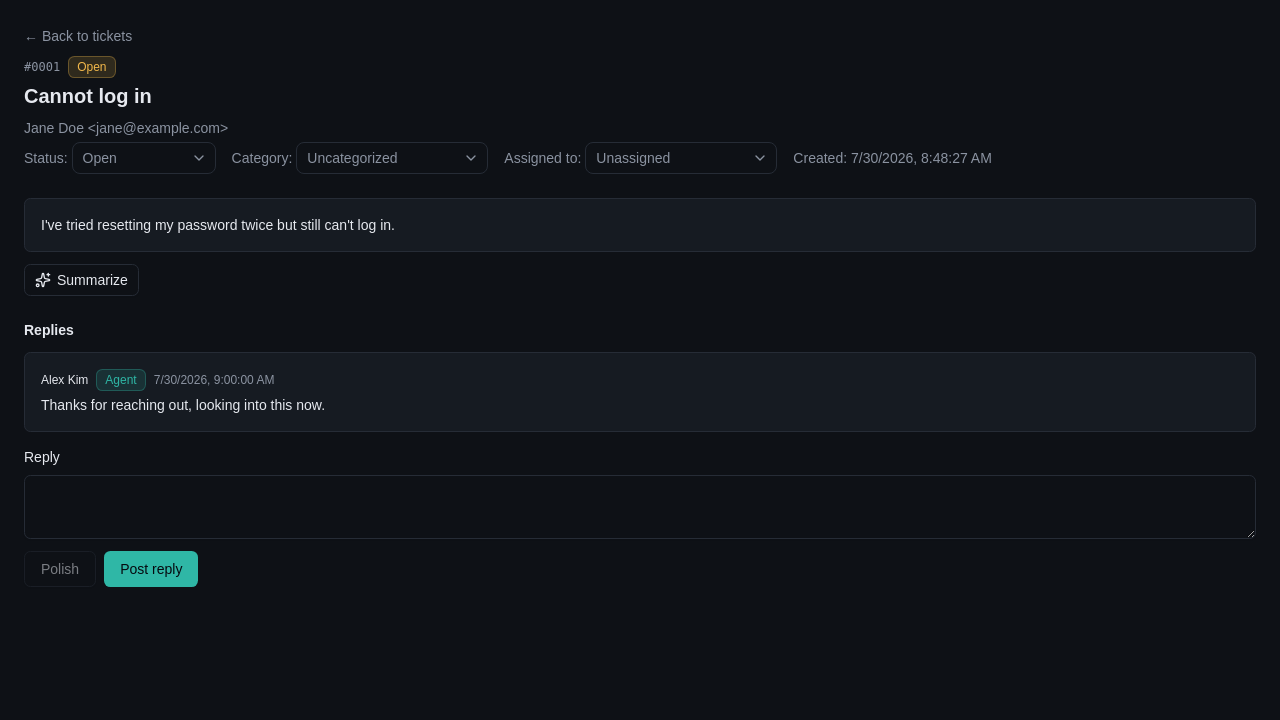
Test: TicketDetail › as an admin › renders an inline error when the assignment mutation fails
Expected: the heading "Cannot log in" is shown, [24,85,152,107]
Click the dropdown named "Assigned to" at (681, 158), box [585,142,777,174]
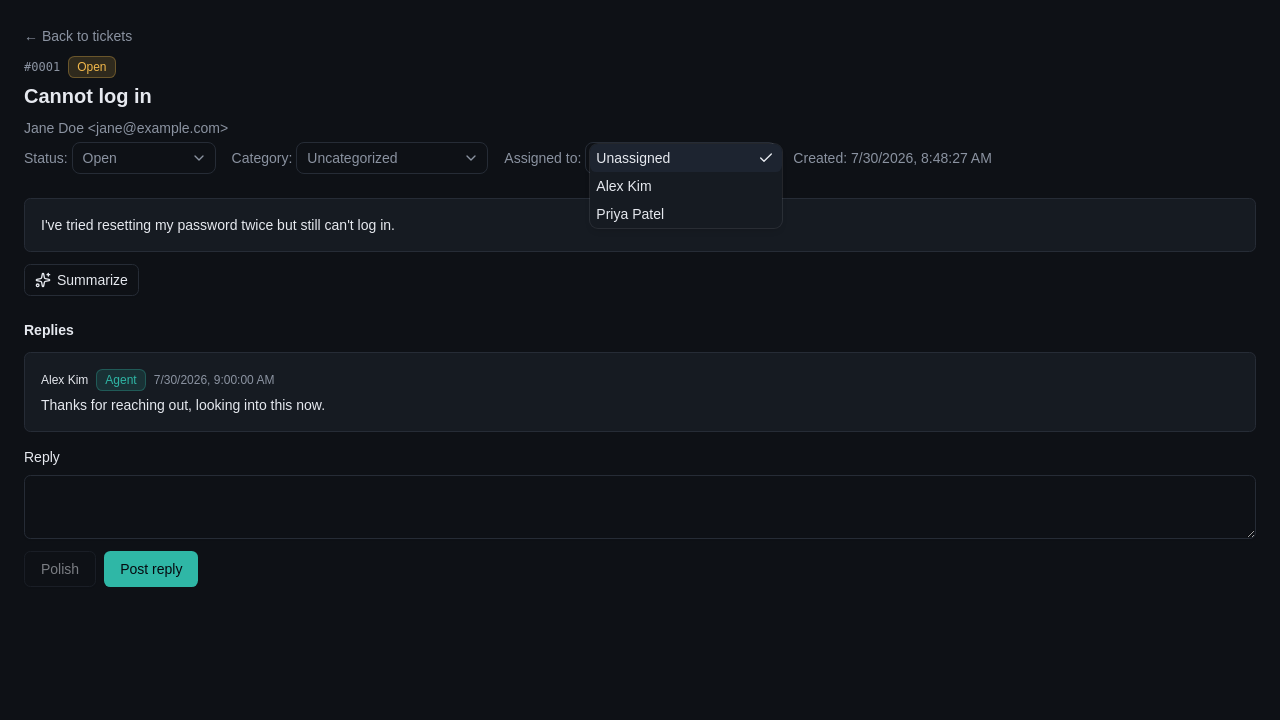
Click the option "Alex Kim" at (624, 186), box [596,178,652,194]
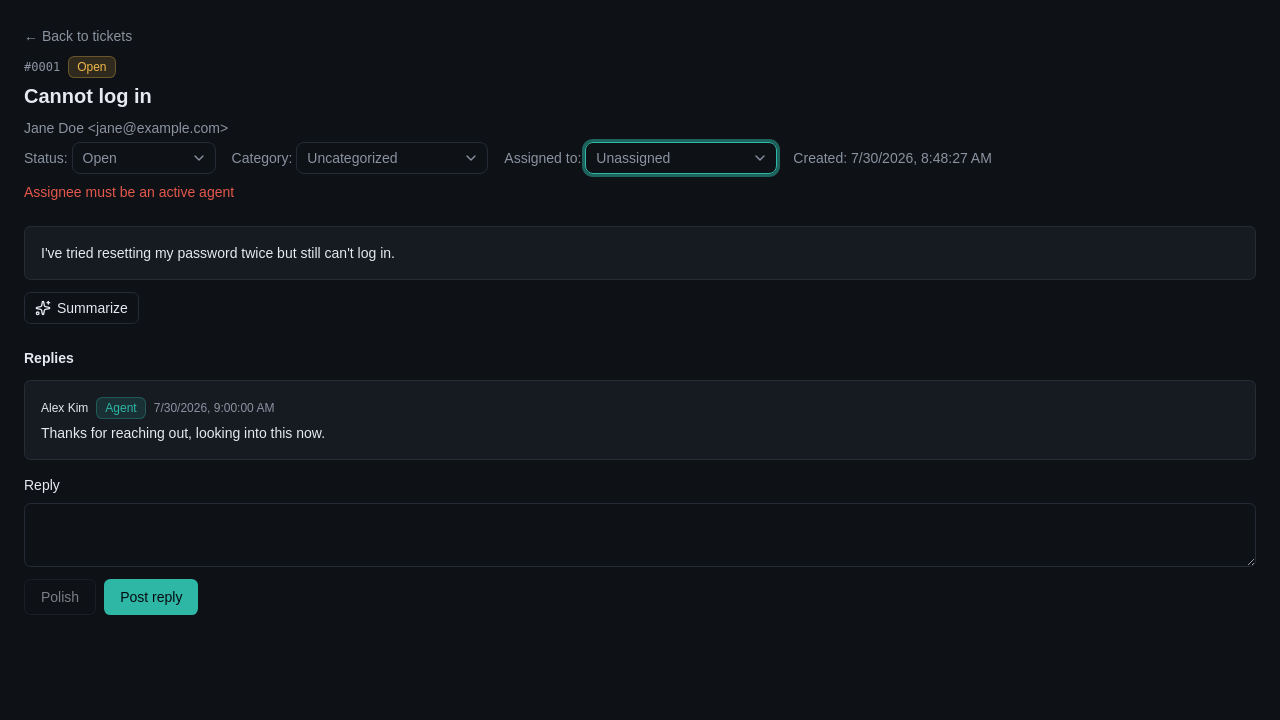
Expected: the text "Assignee must be an active agent" is shown, [24,184,234,200]
